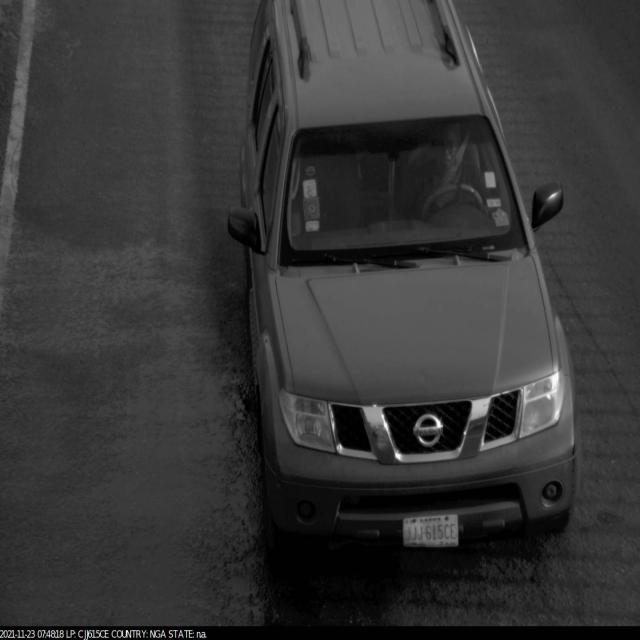windshield: (274, 108, 534, 281)
